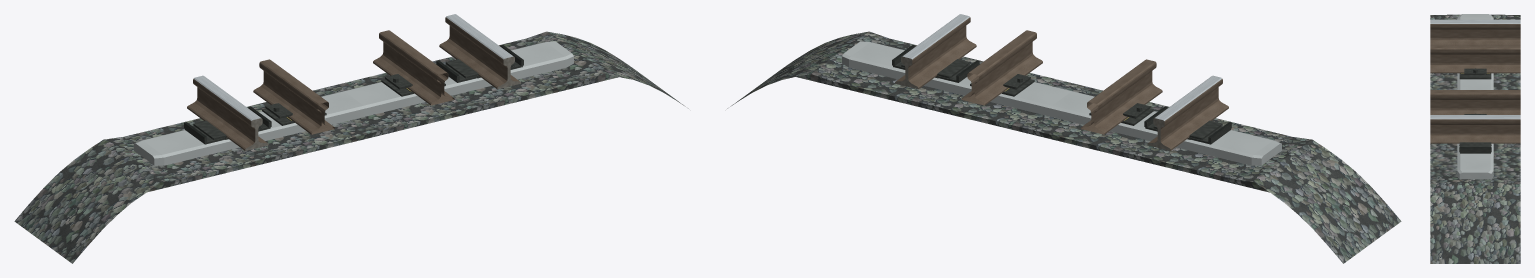
The model's file is center_guard_mid.obj.
The picture shows the model from 3 angles, left to right: view 1: azimuth 30°, elevation 25°; view 2: azimuth 150°, elevation 25°; view 3: azimuth 270°, elevation 25°; orthographic projection. The views are drawn at different scales.
Visible parts, largest first — view 1: ballast, sleeper, center_guard_left, center_guard_right, rail_left, rail_right, fastener_left, fastener_right, center_fastener_left, center_fastener_right; view 2: ballast, sleeper, center_guard_left, center_guard_right, rail_left, rail_right, fastener_left, fastener_right, center_fastener_left, center_fastener_right; view 3: ballast, center_guard_left, rail_right, rail_left, center_guard_right, sleeper, fastener_right, center_fastener_left.
Boxes of the visible parts, x1=… form: ballast: x1=14, y1=31, x2=688, y2=263; sleeper: x1=134, y1=41, x2=573, y2=165; center_guard_left: x1=253, y1=59, x2=334, y2=134; center_guard_right: x1=373, y1=30, x2=454, y2=105; rail_left: x1=187, y1=75, x2=266, y2=150; rail_right: x1=439, y1=14, x2=519, y2=88; fastener_left: x1=184, y1=106, x2=271, y2=144; fastener_right: x1=436, y1=45, x2=523, y2=82; center_fastener_left: x1=262, y1=103, x2=326, y2=125; center_fastener_right: x1=381, y1=74, x2=445, y2=96; ballast: x1=727, y1=31, x2=1401, y2=263; sleeper: x1=842, y1=41, x2=1281, y2=165; center_guard_left: x1=1081, y1=59, x2=1162, y2=134; center_guard_right: x1=961, y1=30, x2=1042, y2=105; rail_left: x1=1149, y1=75, x2=1228, y2=150; rail_right: x1=896, y1=14, x2=976, y2=88; fastener_left: x1=1144, y1=106, x2=1231, y2=144; fastener_right: x1=892, y1=45, x2=979, y2=82; center_fastener_left: x1=1089, y1=103, x2=1153, y2=125; center_fastener_right: x1=970, y1=74, x2=1034, y2=96; ballast: x1=1430, y1=14, x2=1520, y2=263; center_guard_left: x1=1430, y1=44, x2=1520, y2=73; rail_right: x1=1430, y1=115, x2=1520, y2=143; rail_left: x1=1430, y1=19, x2=1520, y2=44; center_guard_right: x1=1430, y1=90, x2=1520, y2=114; sleeper: x1=1457, y1=14, x2=1493, y2=179; fastener_right: x1=1459, y1=142, x2=1491, y2=153; center_fastener_left: x1=1459, y1=68, x2=1491, y2=79.
Bounding box in the file's own units: 3.7 × 0.5683 × 0.6.
